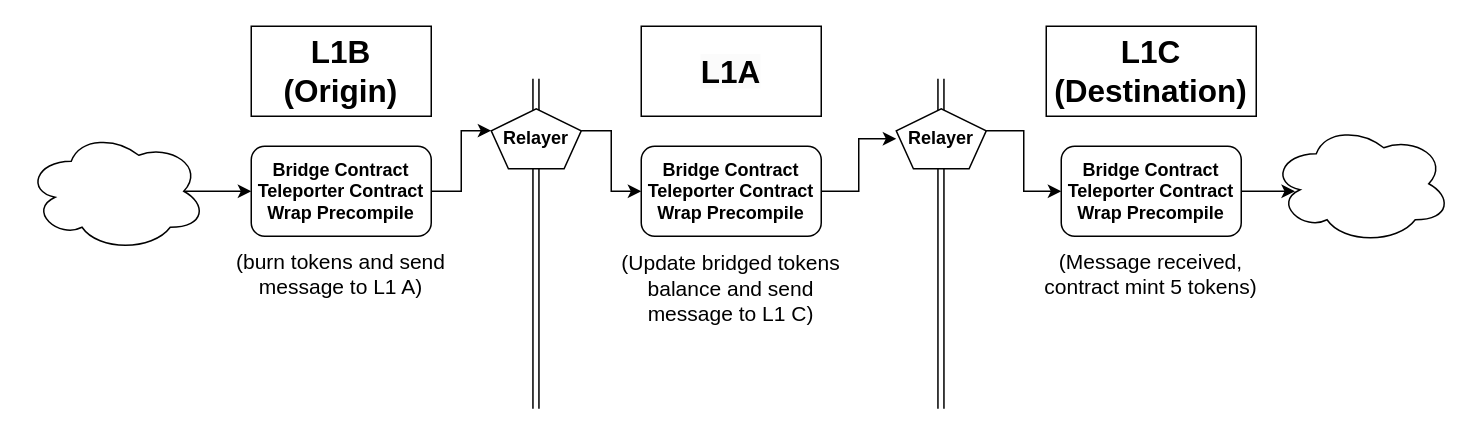
Some shapes in this 1478 by 435 pixel diagram are drawn without their labels. Here are the shapes that lost their labels. From the top down, the box of each, then its label:
(25, 130, 206, 251): "Bridge 5 XYZ tokens to L1C"
(1270, 122, 1451, 244): "Mint 5 XYZ tokens"
